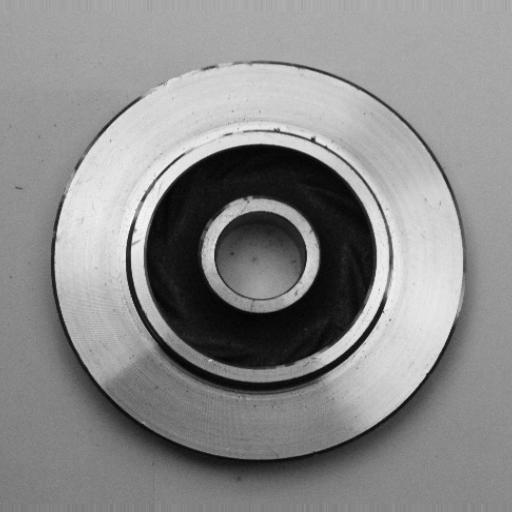crack: (304, 131, 326, 152)
scratch: (143, 61, 215, 107), (179, 119, 265, 157)
unpolished_casting: (50, 61, 471, 467)
